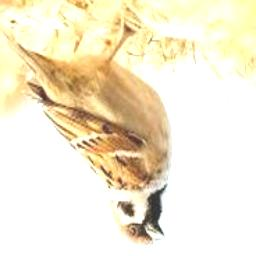Sparrow: (0, 24, 171, 245)
